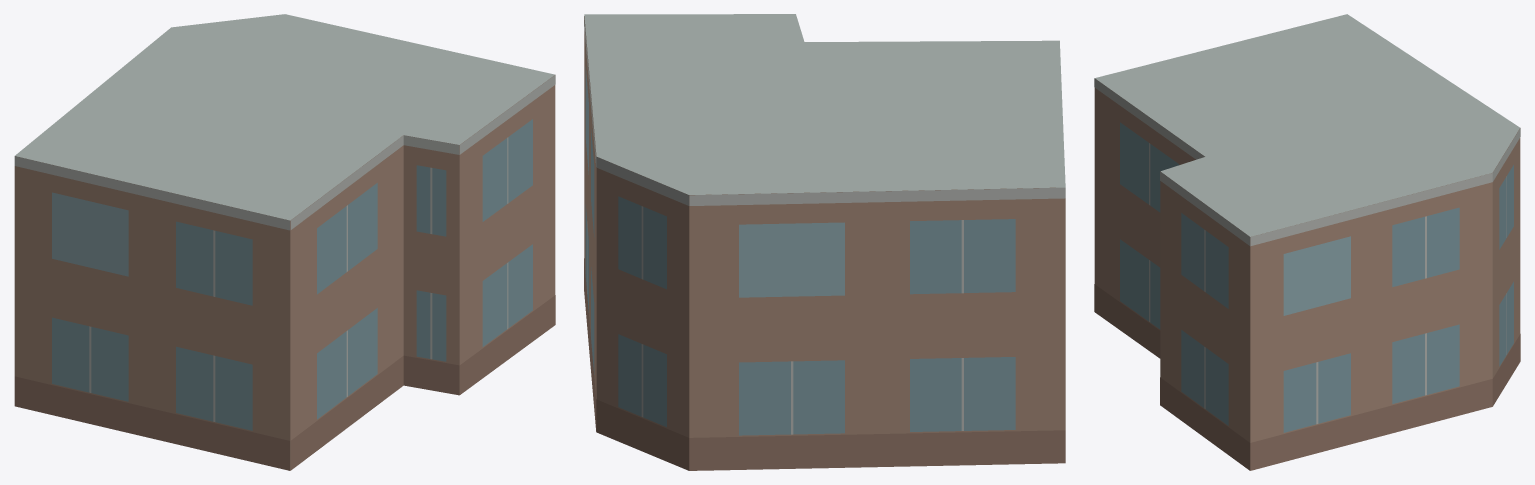
Rendered from survey-upis-32619113.glb.
3 views of the same model, side by side, from view 1: azimuth 30°, elevation 25°; view 2: azimuth 150°, elevation 25°; view 3: azimuth 270°, elevation 25° (orthographic). The views are drawn at different scales.
Parts seen in each view (by area): view 1: survey-upis-32619113.tmp; view 2: survey-upis-32619113.tmp; view 3: survey-upis-32619113.tmp.
Boxes of the visible parts, x1,y1,x2,y2 form: survey-upis-32619113.tmp: (14, 14, 555, 470); survey-upis-32619113.tmp: (584, 14, 1065, 470); survey-upis-32619113.tmp: (1094, 14, 1520, 470).
Bounding box in the file's own units: 12.48 × 6.1 × 10.07.
